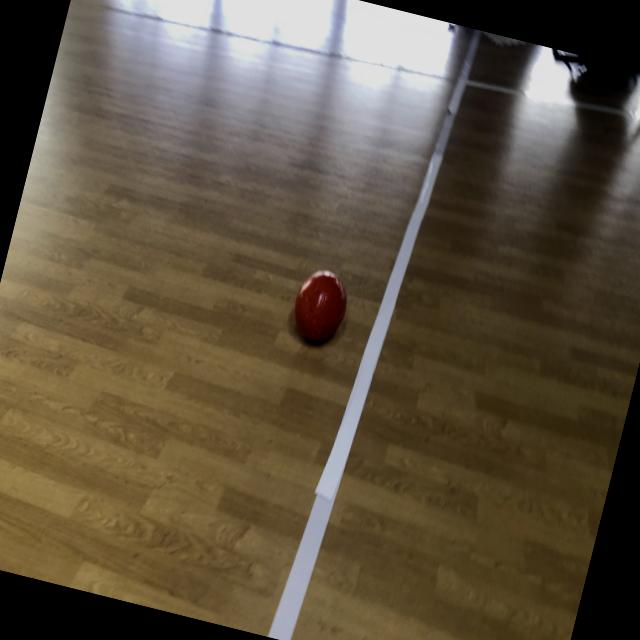red_ball: (288, 266, 354, 348)
